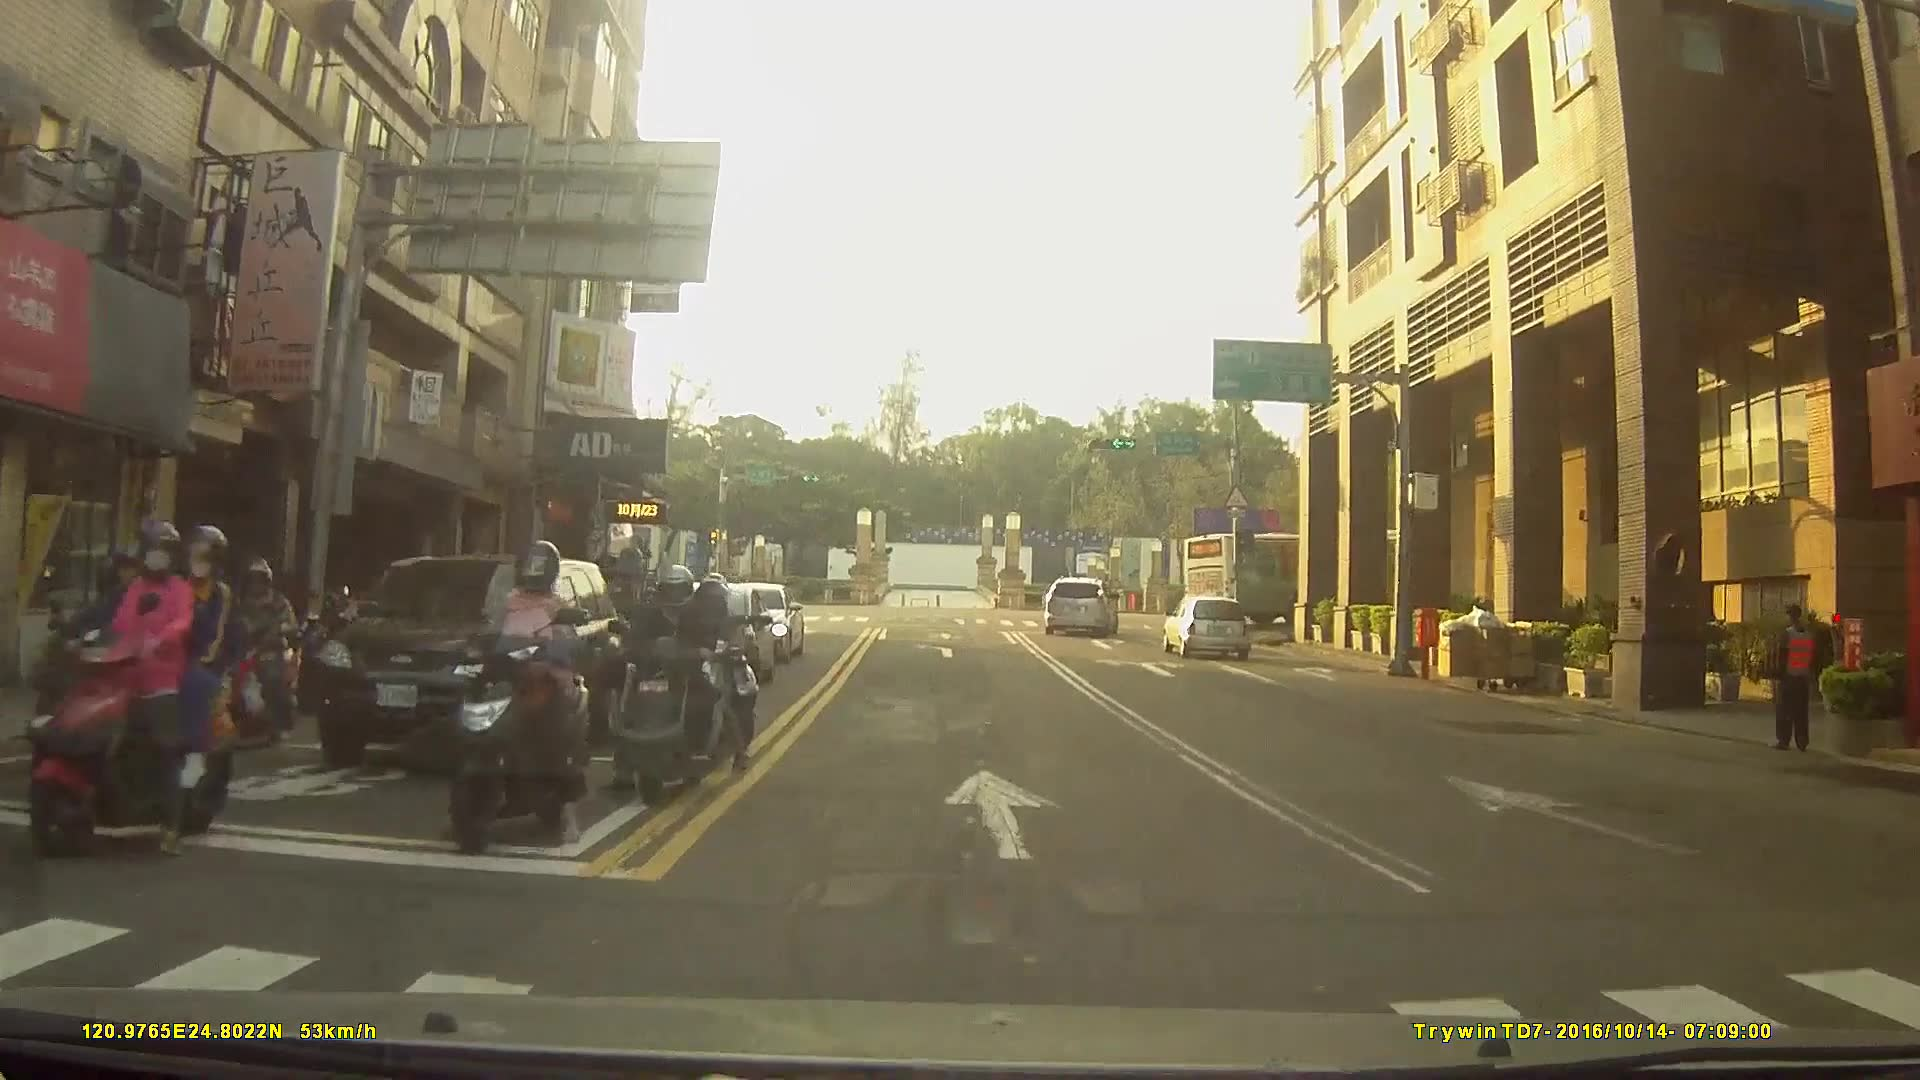pedestrian: (1766, 604, 1823, 763)
rider: (29, 516, 241, 860), (430, 539, 597, 855), (607, 565, 724, 811), (209, 555, 305, 764)
vehicle: (310, 554, 623, 764), (1183, 529, 1442, 622), (1160, 592, 1253, 658), (1041, 575, 1118, 634)
